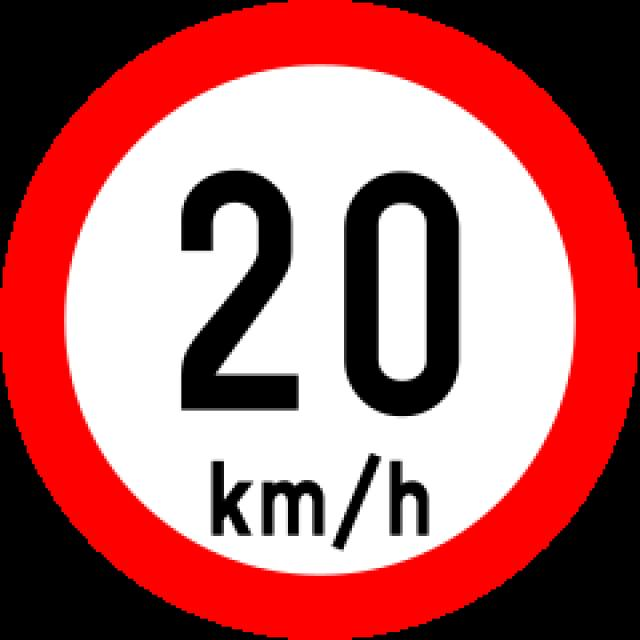Speed Limit -20-: (178, 165, 464, 423)
